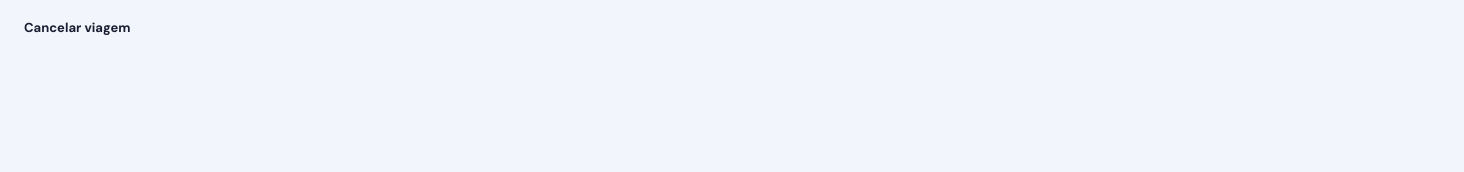
Test: ConfirmButton › com motivo, só libera depois do mínimo e entrega o texto
This screenshot has width=1464, height=172.
Later steps or results of the test are not shown.
Click the button "Cancelar viagem" at (77, 28), box [12,12,142,44]
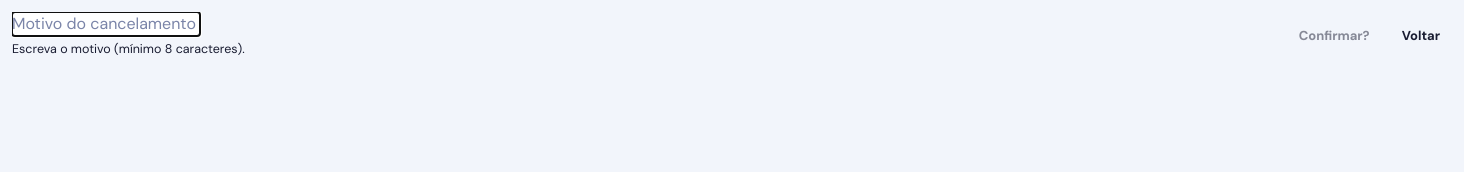
expect the button "Confirmar?" is disabled: met, box [1287,19,1382,51]
Type "curto" into the field labelled "Motivo do cancelamento" at (106, 24), box [12,12,200,36]
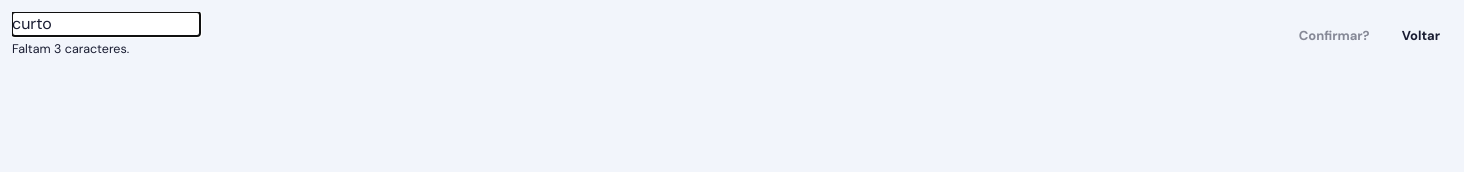
expect the button "Confirmar?" is disabled: met, box [1287,19,1382,51]
expect the text "Faltam 3 caracteres." is shown: met, box [12,41,129,57]
Type " demais " into the field named "Motivo do cancelamento" at (106, 24), box [12,12,200,36]
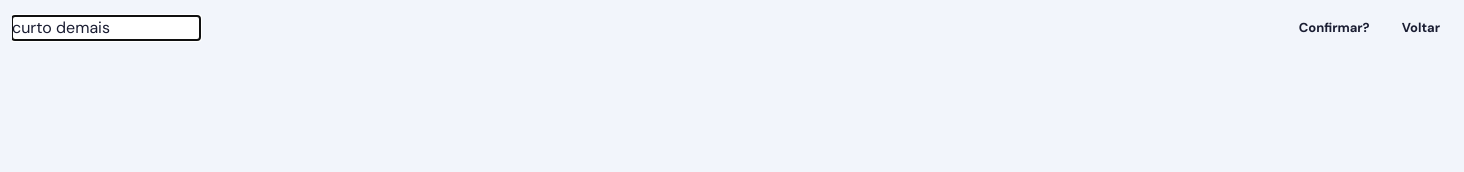
expect the button "Confirmar?" is enabled: met, box [1287,12,1382,44]
